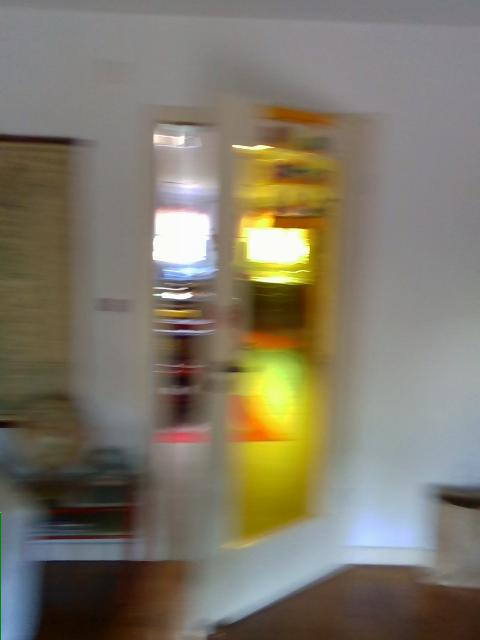semi_door: (133, 90, 380, 610)
